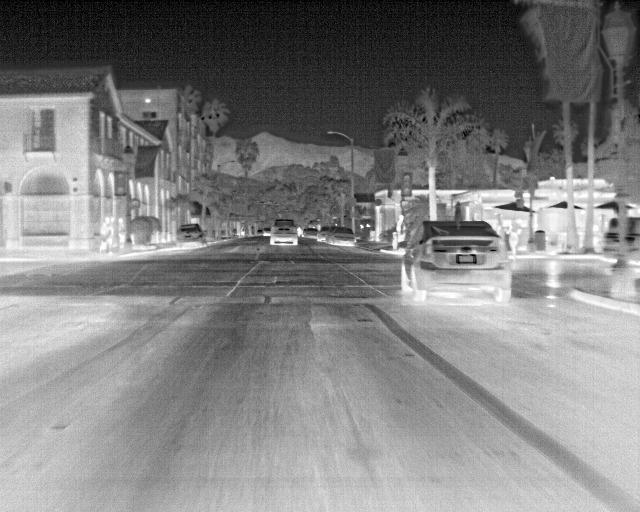bicycle: (397, 219, 515, 303), (268, 217, 302, 248), (174, 223, 209, 246), (328, 227, 357, 248), (604, 219, 619, 259), (627, 216, 639, 263), (303, 226, 320, 240), (317, 226, 332, 241)
empty: (96, 214, 113, 253), (394, 213, 408, 248), (115, 216, 127, 249)
